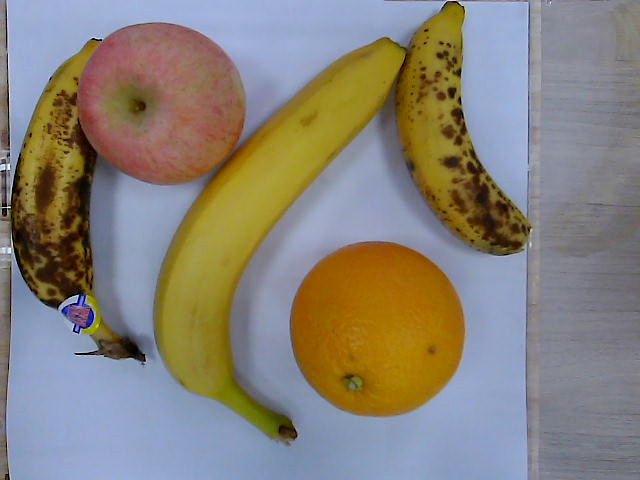fresh_apple: (76, 22, 244, 187)
fresh_banana: (152, 39, 408, 441)
fresh_orange: (289, 241, 464, 417)
rotten_banana: (10, 38, 144, 371), (394, 3, 536, 257)
